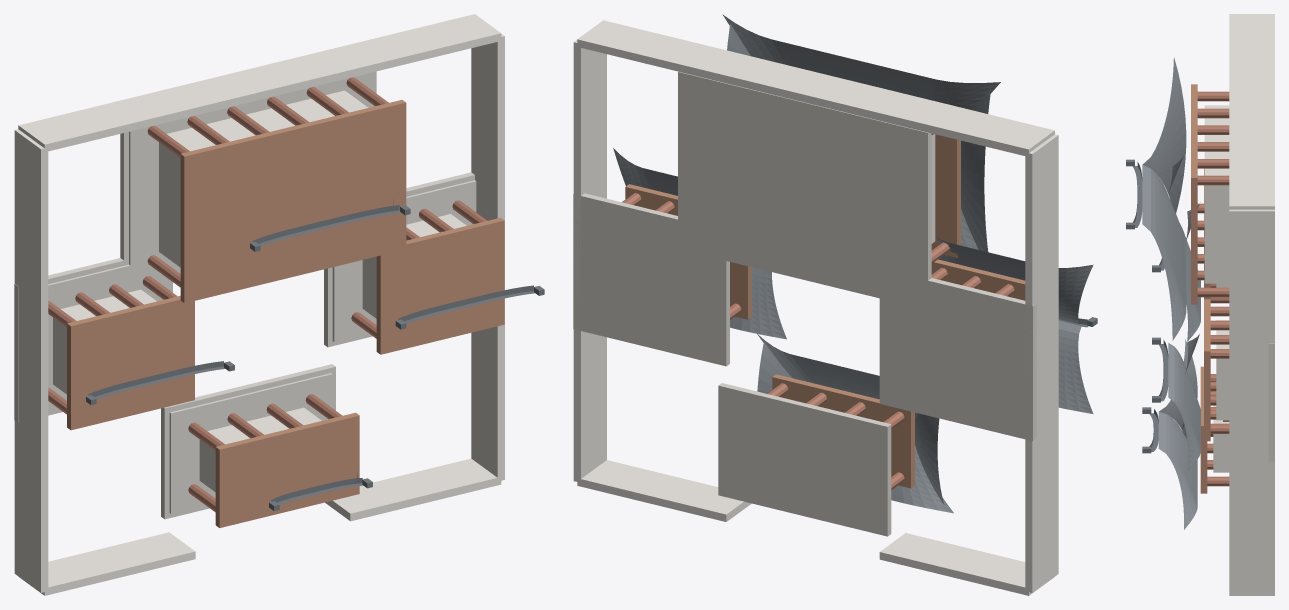
File: heritage_taimen_courtyard.glb
3 views of the same model, side by side, from view 1: azimuth 30°, elevation 25°; view 2: azimuth 150°, elevation 25°; view 3: azimuth 270°, elevation 25° (orthographic). The views are drawn at different scales.
Visible parts, largest first — view 1: part_015, part_078, part_080, part_053, part_035, part_071, part_079, part_061, part_001, part_002, part_081, part_082 (+13 smaller); view 2: part_000, part_024, part_042, part_060, part_078, part_080, part_079, part_020, part_074, part_056, part_081, part_082 (+5 smaller); view 3: part_079, part_078, part_020, part_002, part_074, part_038, part_015, part_026, part_035, part_056, part_024, part_062 (+14 smaller).
Part boxes in pixels (x1,y1,x2,y2): part_015: [180, 100, 406, 303]; part_078: [18, 14, 501, 151]; part_080: [14, 129, 48, 592]; part_053: [67, 295, 194, 430]; part_035: [376, 217, 504, 354]; part_071: [215, 412, 359, 527]; part_079: [471, 34, 504, 481]; part_061: [169, 373, 332, 513]; part_001: [129, 72, 373, 284]; part_002: [159, 90, 368, 267]; part_081: [325, 458, 501, 521]; part_082: [19, 532, 195, 595]; part_000: [678, 71, 931, 309]; part_024: [573, 193, 729, 366]; part_042: [879, 269, 1036, 441]; part_060: [718, 383, 891, 536]; part_078: [577, 20, 1054, 156]; part_080: [1025, 134, 1058, 592]; part_079: [573, 40, 606, 482]; part_020: [722, 14, 1000, 251]; part_074: [757, 334, 953, 513]; part_056: [936, 236, 1093, 414]; part_081: [577, 460, 751, 521]; part_082: [879, 533, 1053, 595]; part_079: [1229, 209, 1274, 594]; part_078: [1229, 14, 1274, 209]; part_020: [1142, 57, 1186, 340]; part_002: [1204, 105, 1229, 283]; part_074: [1158, 339, 1197, 529]; part_038: [1168, 334, 1200, 471]; part_015: [1191, 84, 1197, 304]; part_026: [1216, 320, 1229, 420]; part_035: [1204, 299, 1210, 441]; part_056: [1180, 204, 1200, 341]; part_024: [1268, 343, 1274, 461]; part_062: [1213, 405, 1229, 472].
Bounding box in the file's own units: 29.8 × 26.66 × 9.16.
